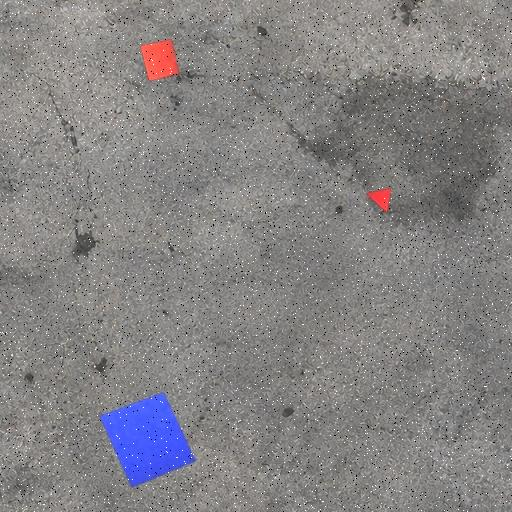BLUE_SQUARE: (98, 392, 197, 489)
RED_SQUARE: (139, 38, 180, 82)
